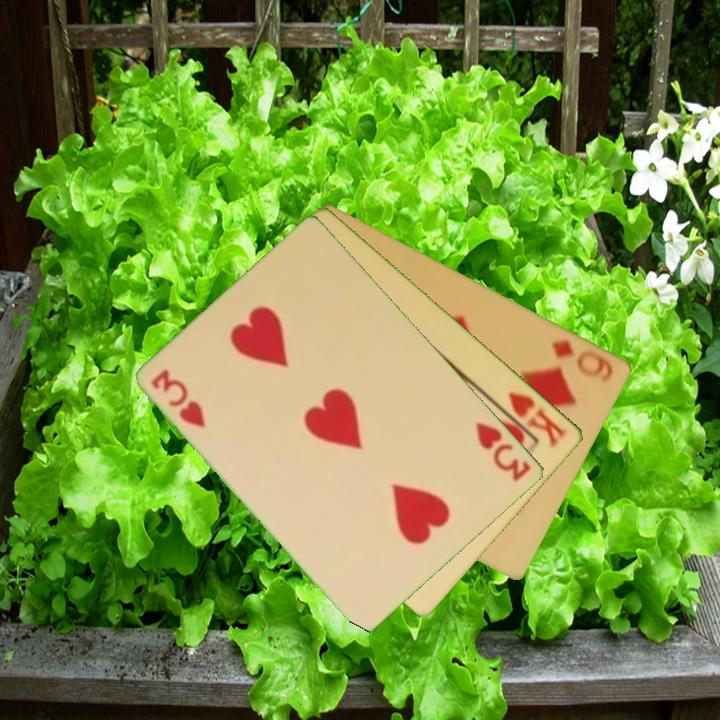3h: (472, 418, 535, 485), (148, 365, 210, 432)
6d: (548, 336, 617, 385)
Kh: (492, 388, 571, 451)
